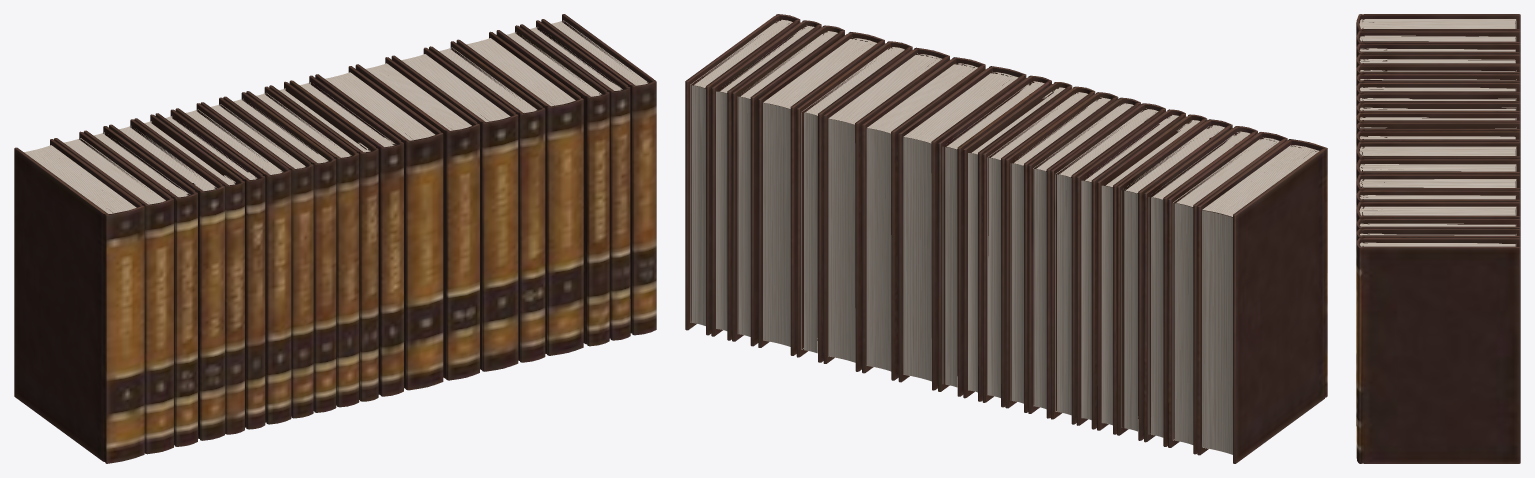
The model's file is book_encyclopedia_set_01.gltf.
3 views of the same model, side by side, from view 1: azimuth 30°, elevation 25°; view 2: azimuth 150°, elevation 25°; view 3: azimuth 270°, elevation 25° (orthographic). The views are drawn at different scales.
Visible parts, largest first — view 1: book_encyclopedia_set_01_book01, book_encyclopedia_set_01_book13, book_encyclopedia_set_01_book15, book_encyclopedia_set_01_book17, book_encyclopedia_set_01_book14, book_encyclopedia_set_01_book02, book_encyclopedia_set_01_book16, book_encyclopedia_set_01_book04, book_encyclopedia_set_01_book20, book_encyclopedia_set_01_book18, book_encyclopedia_set_01_book07, book_encyclopedia_set_01_book12 (+8 smaller); view 2: book_encyclopedia_set_01_book01, book_encyclopedia_set_01_book13, book_encyclopedia_set_01_book15, book_encyclopedia_set_01_book17, book_encyclopedia_set_01_book14, book_encyclopedia_set_01_book02, book_encyclopedia_set_01_book16, book_encyclopedia_set_01_book04, book_encyclopedia_set_01_book18, book_encyclopedia_set_01_book20, book_encyclopedia_set_01_book07, book_encyclopedia_set_01_book12 (+8 smaller); view 3: book_encyclopedia_set_01_book20, book_encyclopedia_set_01_book17, book_encyclopedia_set_01_book01, book_encyclopedia_set_01_book13, book_encyclopedia_set_01_book15, book_encyclopedia_set_01_book14, book_encyclopedia_set_01_book02, book_encyclopedia_set_01_book16, book_encyclopedia_set_01_book03, book_encyclopedia_set_01_book12, book_encyclopedia_set_01_book04, book_encyclopedia_set_01_book07 (+8 smaller).
Boxes of the visible parts, x1,y1,x2,y2 form: book_encyclopedia_set_01_book01: [14, 139, 144, 463]; book_encyclopedia_set_01_book13: [315, 66, 443, 390]; book_encyclopedia_set_01_book15: [391, 47, 518, 371]; book_encyclopedia_set_01_book17: [456, 31, 583, 355]; book_encyclopedia_set_01_book14: [355, 57, 479, 380]; book_encyclopedia_set_01_book02: [54, 131, 173, 454]; book_encyclopedia_set_01_book16: [429, 41, 545, 362]; book_encyclopedia_set_01_book04: [109, 119, 224, 440]; book_encyclopedia_set_01_book20: [541, 14, 656, 335]; book_encyclopedia_set_01_book18: [496, 25, 609, 346]; book_encyclopedia_set_01_book07: [175, 103, 291, 424]; book_encyclopedia_set_01_book12: [289, 75, 403, 396]; book_encyclopedia_set_01_book01: [1197, 139, 1327, 463]; book_encyclopedia_set_01_book13: [898, 66, 1026, 390]; book_encyclopedia_set_01_book15: [823, 47, 949, 371]; book_encyclopedia_set_01_book17: [758, 32, 884, 355]; book_encyclopedia_set_01_book14: [861, 57, 985, 380]; book_encyclopedia_set_01_book02: [1168, 132, 1287, 454]; book_encyclopedia_set_01_book16: [796, 41, 912, 362]; book_encyclopedia_set_01_book04: [1117, 119, 1232, 440]; book_encyclopedia_set_01_book18: [732, 25, 844, 346]; book_encyclopedia_set_01_book20: [685, 14, 800, 335]; book_encyclopedia_set_01_book07: [1050, 103, 1165, 424]; book_encyclopedia_set_01_book12: [938, 75, 1051, 396]; book_encyclopedia_set_01_book20: [1356, 238, 1520, 463]; book_encyclopedia_set_01_book17: [1356, 202, 1520, 425]; book_encyclopedia_set_01_book01: [1356, 14, 1520, 35]; book_encyclopedia_set_01_book13: [1356, 142, 1520, 189]; book_encyclopedia_set_01_book15: [1356, 174, 1520, 194]; book_encyclopedia_set_01_book14: [1356, 159, 1520, 181]; book_encyclopedia_set_01_book02: [1356, 30, 1520, 47]; book_encyclopedia_set_01_book16: [1356, 190, 1520, 208]; book_encyclopedia_set_01_book03: [1356, 43, 1520, 58]; book_encyclopedia_set_01_book12: [1356, 131, 1520, 190]; book_encyclopedia_set_01_book04: [1356, 54, 1520, 77]; book_encyclopedia_set_01_book07: [1356, 82, 1520, 97].
Size of the model in its own units: 0.5513 by 0.2374 by 0.1636.
2 materials, 2 textured.
